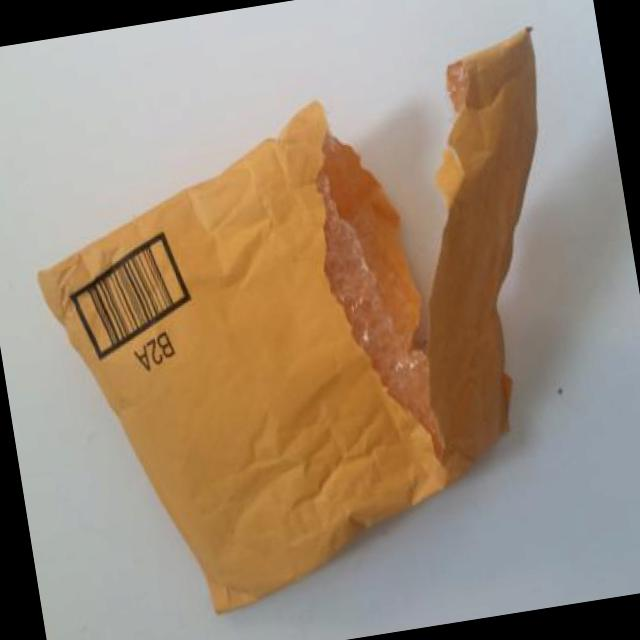giay: (36, 32, 540, 617)
